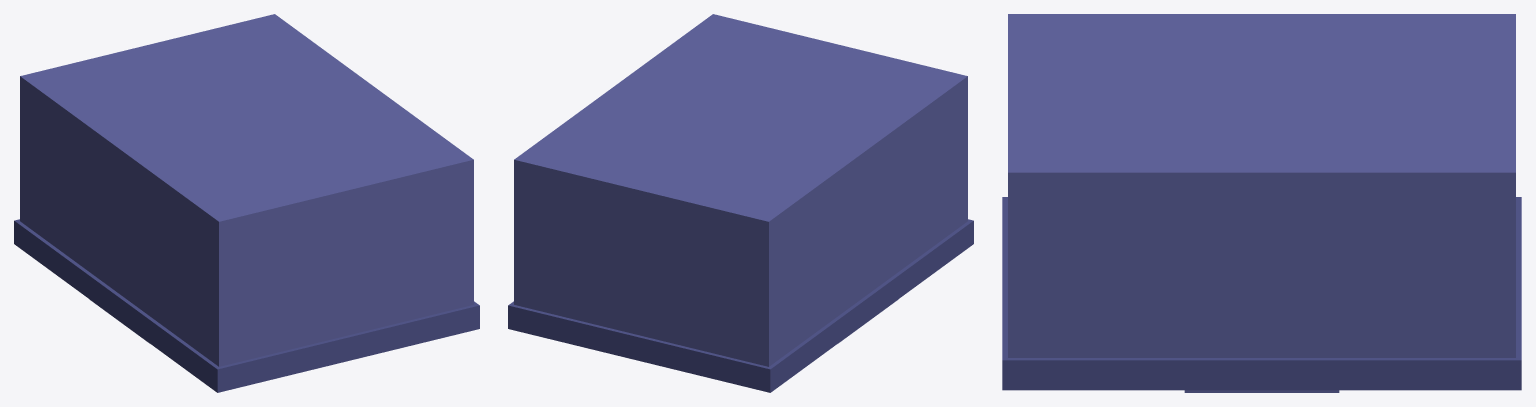
The model's file is kimono_manga_inf.glb.
3 renders of one model, left to right at view 1: azimuth 30°, elevation 25°; view 2: azimuth 150°, elevation 25°; view 3: azimuth 270°, elevation 25°, orthographic. The views are drawn at different scales.
Parts seen in each view (by area): view 1: kimono_manga_inf; view 2: kimono_manga_inf; view 3: kimono_manga_inf.
Part boxes in pixels (x1,y1,x2,y2): kimono_manga_inf: (14, 14, 479, 392); kimono_manga_inf: (508, 14, 973, 392); kimono_manga_inf: (1002, 14, 1521, 392).
Size of the model in its own units: 0.35 by 0.22 by 0.47.
